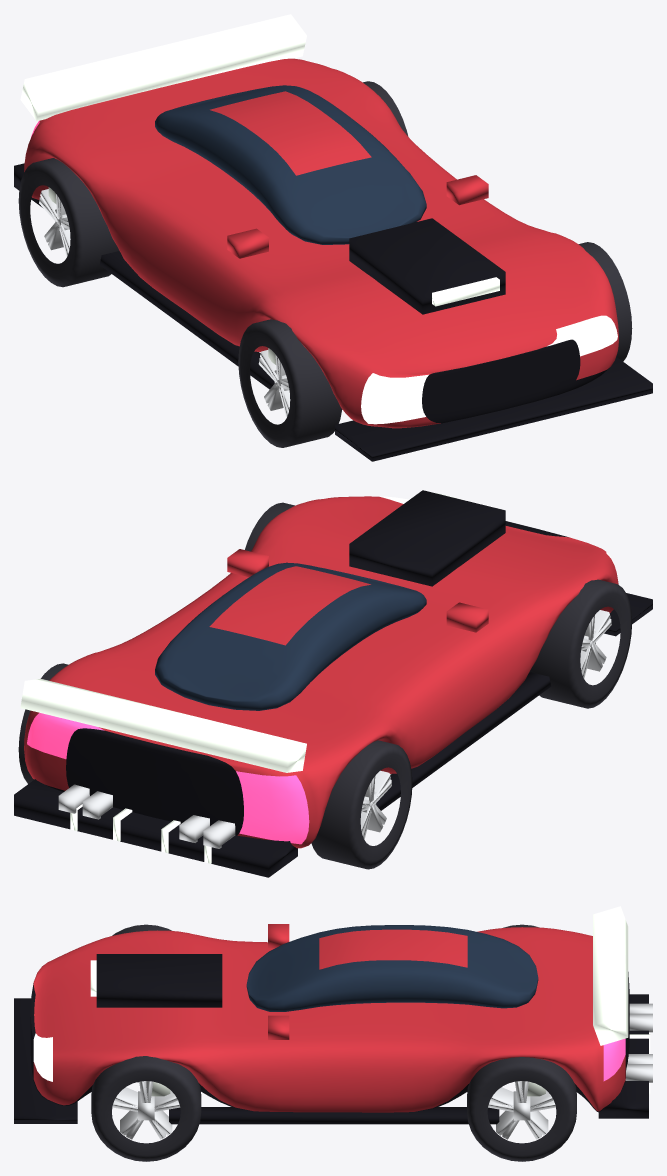
File: shaheen.glb
The picture shows the model from 3 angles, top to bottom: view 1: azimuth 30°, elevation 25°; view 2: azimuth 150°, elevation 25°; view 3: azimuth 270°, elevation 25°; orthographic projection. The views are drawn at different scales.
Parts seen in each view (by area): view 1: Chassis, Wheel_FR, Wheel_RR, Wheel_FL; view 2: Chassis, Wheel_RR, Wheel_FR, Wheel_RL, Wheel_FL; view 3: Chassis, Wheel_RL, Wheel_FL.
Boxes of the visible parts, box(x1,y1,x2,y2) form: Chassis: box(14, 14, 652, 461); Wheel_FR: box(238, 319, 342, 447); Wheel_RR: box(18, 158, 119, 287); Wheel_FL: box(578, 242, 632, 361); Chassis: box(14, 490, 652, 877); Wheel_RR: box(311, 740, 412, 869); Wheel_FR: box(529, 579, 632, 708); Wheel_RL: box(18, 663, 68, 783); Wheel_FL: box(245, 502, 294, 551); Chassis: box(14, 906, 652, 1124); Wheel_RL: box(467, 1057, 576, 1161); Wheel_FL: box(91, 1056, 201, 1161).
Size of the model in its own units: 2.5 by 1.24 by 4.83.
